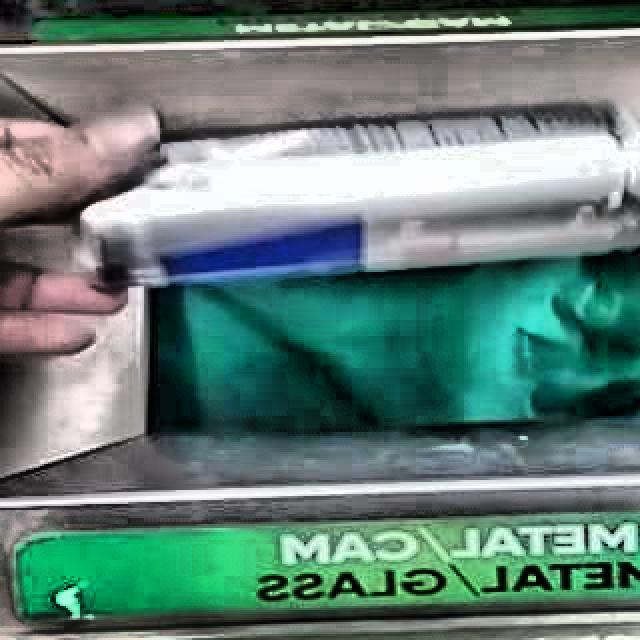metal: (77, 105, 640, 285)
